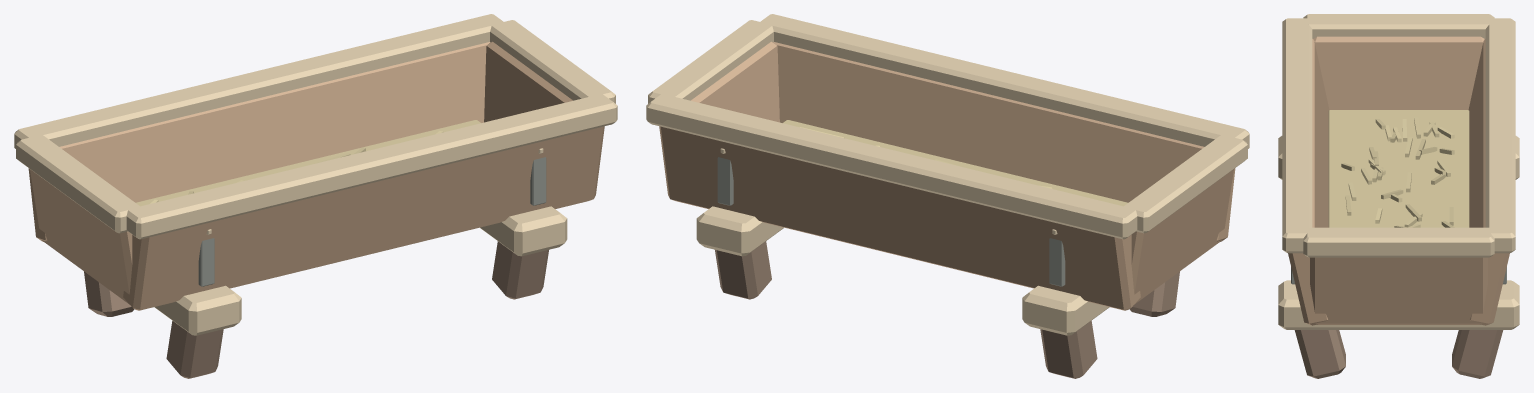
File: crafted-cow-food-1.glb
3 renders of one model, left to right at view 1: azimuth 30°, elevation 25°; view 2: azimuth 150°, elevation 25°; view 3: azimuth 270°, elevation 25°, orthographic. The views are drawn at different scales.
Visible parts, largest first — view 1: long-stave-1, long-stave, rim-long-1, rim-long, end-stave, rim-end, end-stave-1, rim-end-1, trestle-1, trestle, splayed-leg-3, splayed-leg-1 (+4 smaller); view 2: long-stave, long-stave-1, rim-long, rim-long-1, end-stave, rim-end, end-stave-1, rim-end-1, trestle-1, trestle, splayed-leg-2, splayed-leg (+4 smaller); view 3: hay-volume, end-stave-1, end-stave, rim-long-1, rim-long, rim-end-1, rim-end, long-stave, long-stave-1, trestle-1, splayed-leg-2, splayed-leg-3 (+1 smaller).
Boxes of the visible parts, x1,y1,x2,y2 form: long-stave-1: (123, 126, 604, 310); long-stave: (28, 42, 490, 241); rim-long-1: (126, 94, 617, 239); rim-long: (14, 14, 503, 148); end-stave: (30, 169, 132, 304); rim-end: (16, 135, 139, 233); end-stave-1: (484, 41, 572, 122); rim-end-1: (490, 20, 615, 103); trestle-1: (480, 206, 567, 256); trestle: (154, 285, 241, 335); splayed-leg-3: (492, 241, 548, 299); splayed-leg-1: (166, 321, 223, 378); long-stave: (659, 126, 1140, 310); long-stave-1: (773, 42, 1235, 241); rim-long: (646, 94, 1137, 239); rim-long-1: (760, 14, 1249, 148); end-stave: (1131, 169, 1233, 304); rim-end: (1124, 135, 1247, 233); end-stave-1: (691, 41, 779, 122); rim-end-1: (648, 20, 773, 103); trestle-1: (696, 206, 783, 256); trestle: (1022, 285, 1109, 335); splayed-leg-2: (715, 241, 771, 299); splayed-leg: (1040, 321, 1097, 378); hay-volume: (1328, 110, 1469, 227); end-stave-1: (1310, 257, 1487, 324); end-stave: (1313, 36, 1484, 109); rim-long-1: (1282, 18, 1312, 253); rim-long: (1485, 18, 1515, 253); rim-end-1: (1303, 227, 1494, 257); rim-end: (1303, 14, 1494, 38); long-stave: (1468, 39, 1509, 325); long-stave-1: (1288, 39, 1329, 325); trestle-1: (1278, 280, 1519, 329); splayed-leg-2: (1452, 330, 1503, 378); splayed-leg-3: (1294, 330, 1345, 378).
Size of the model in its own units: 1.6 by 0.5736 by 0.72.
